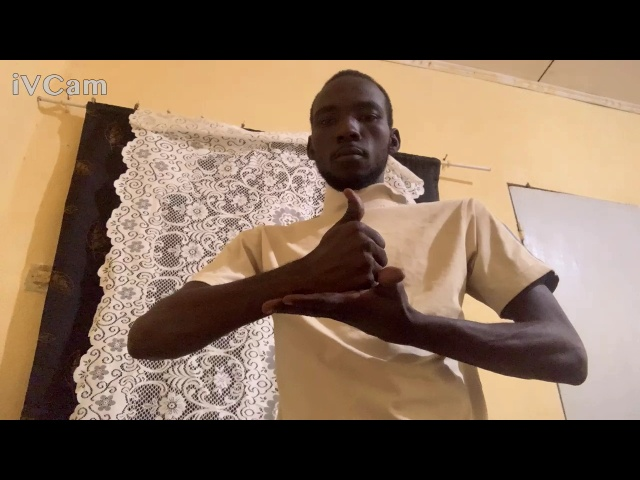aide: (257, 185, 421, 352)
